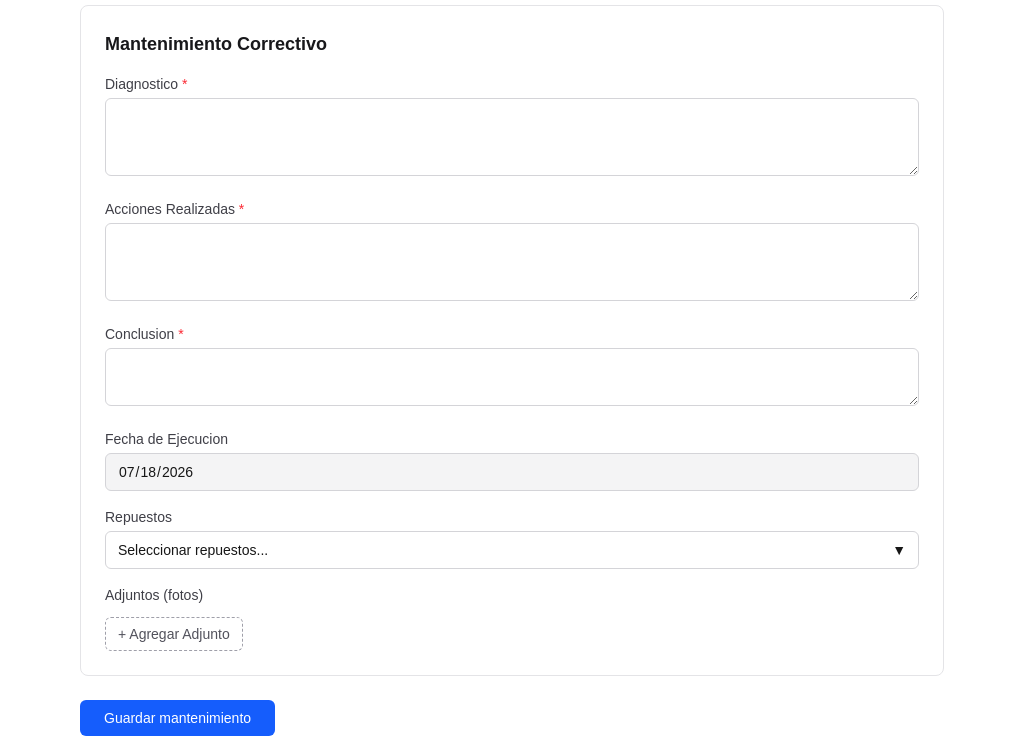
Test case: IncidenciaDetailPage › lets a técnico toggle repuestos, add/update/remove adjuntos and closes on outside click
This screenshot has width=1024, height=739.
(page scrolled)
Expected: the button "Guardar mantenimiento" is shown, [80,700,275,736]
Click the button "Seleccionar repuestos... ▼" at (193, 550), box [105,531,919,569]
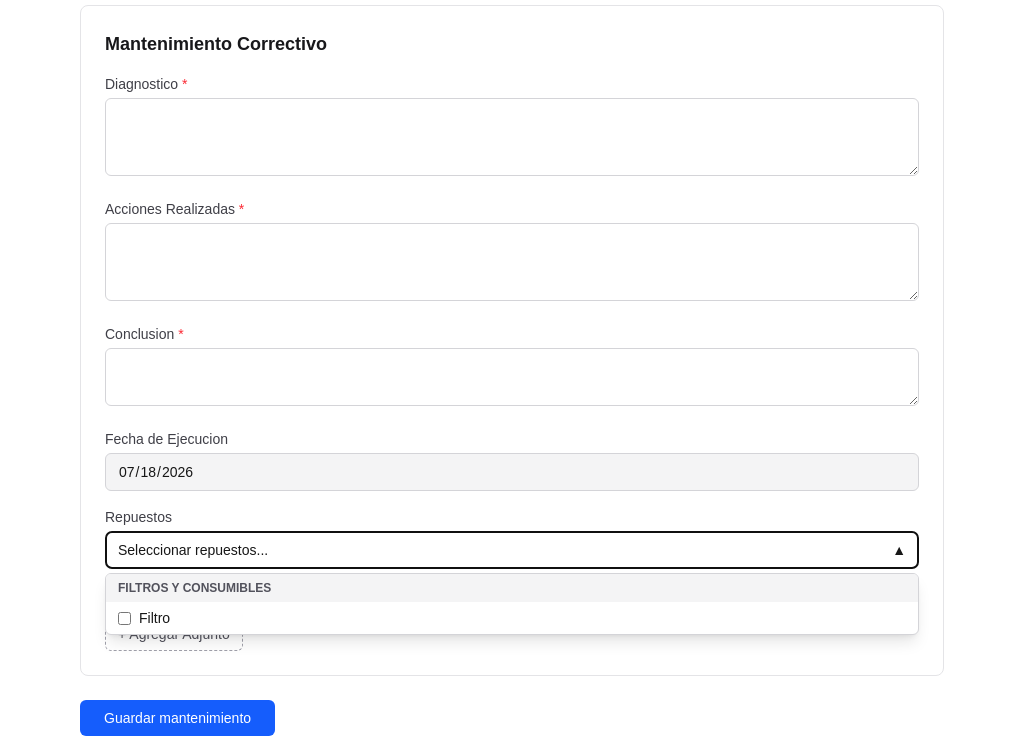
Click the checkbox labelled "Filtro" at (124, 618), box [118,612,131,624]
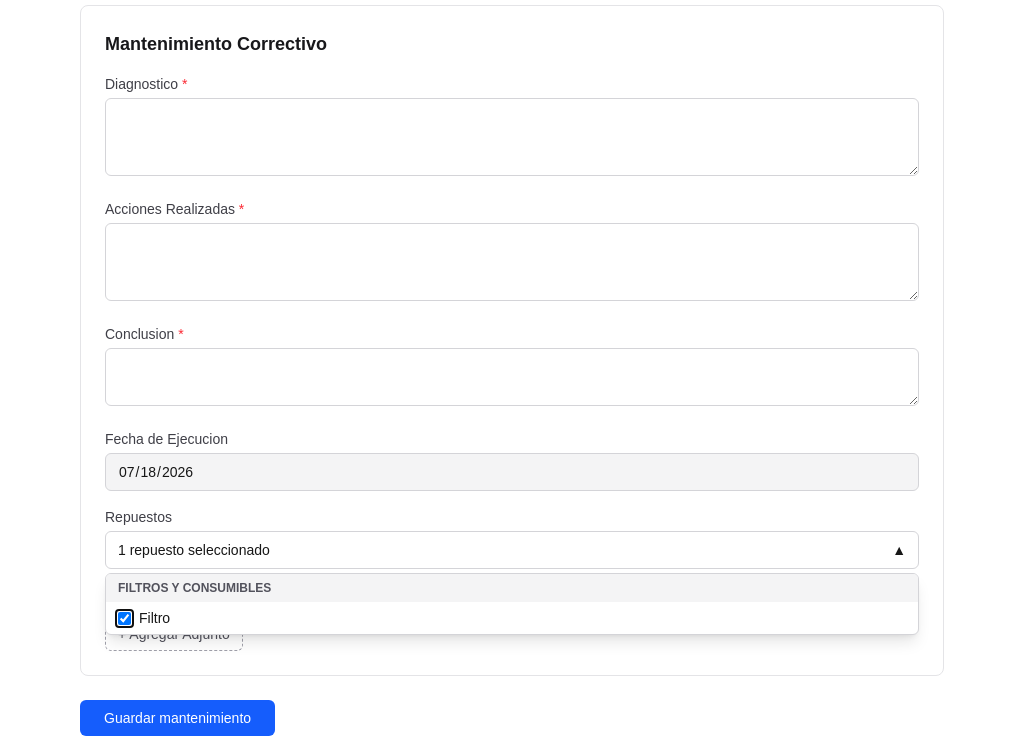
Expected: the button "1 repuesto seleccionado ▲" is shown, [105,531,919,569]
Note: Untoggle to hit the "already selected" branch of toggleRepuesto.
Click the checkbox labelled "Filtro" at (124, 618), box [118,612,131,624]
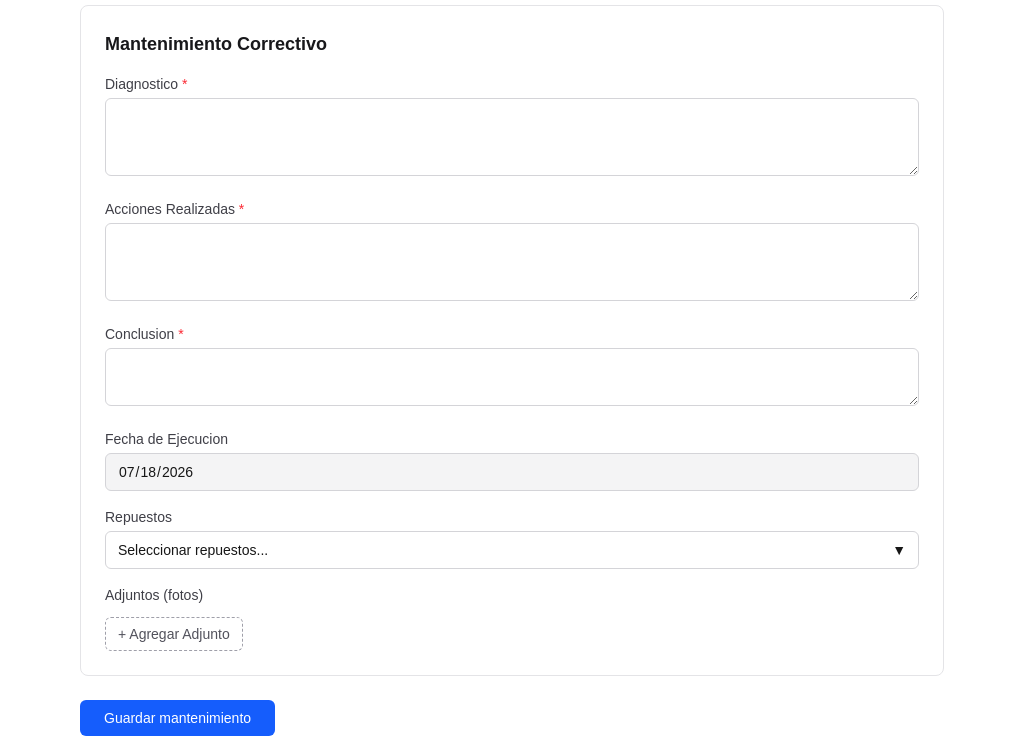
Note: Add an adjunto, edit both fields, then remove it.
Click the button "+ Agregar Adjunto" at (174, 634), box [105,617,243,651]
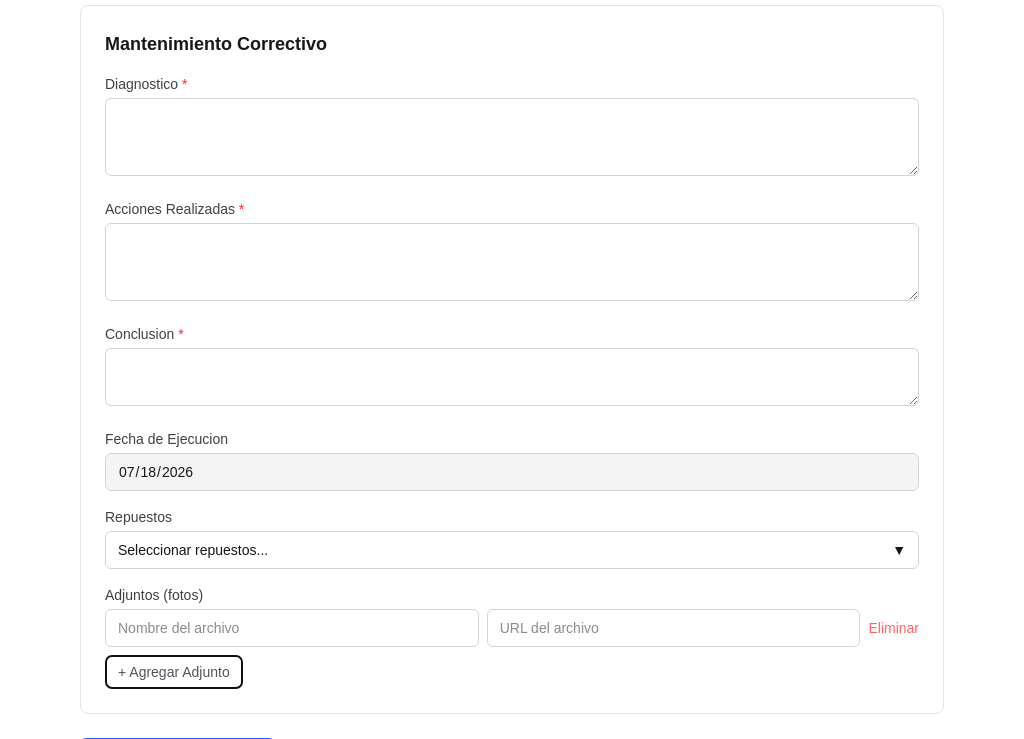
Type "foto.jpg" into the field with placeholder "Nombre del archivo" at (292, 628), box [105,609,479,647]
Type "https://x/foto.jpg" into the field with placeholder "URL del archivo" at (674, 628), box [487,609,860,647]
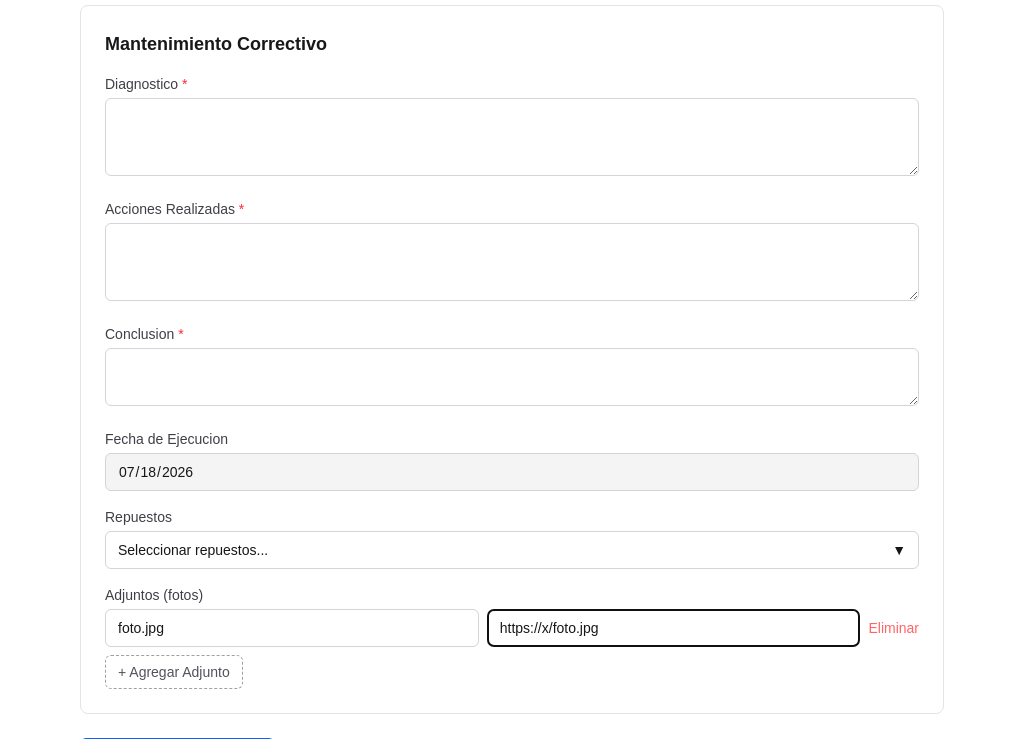
Click the button "Eliminar" at (894, 628), box [868,618,919,638]
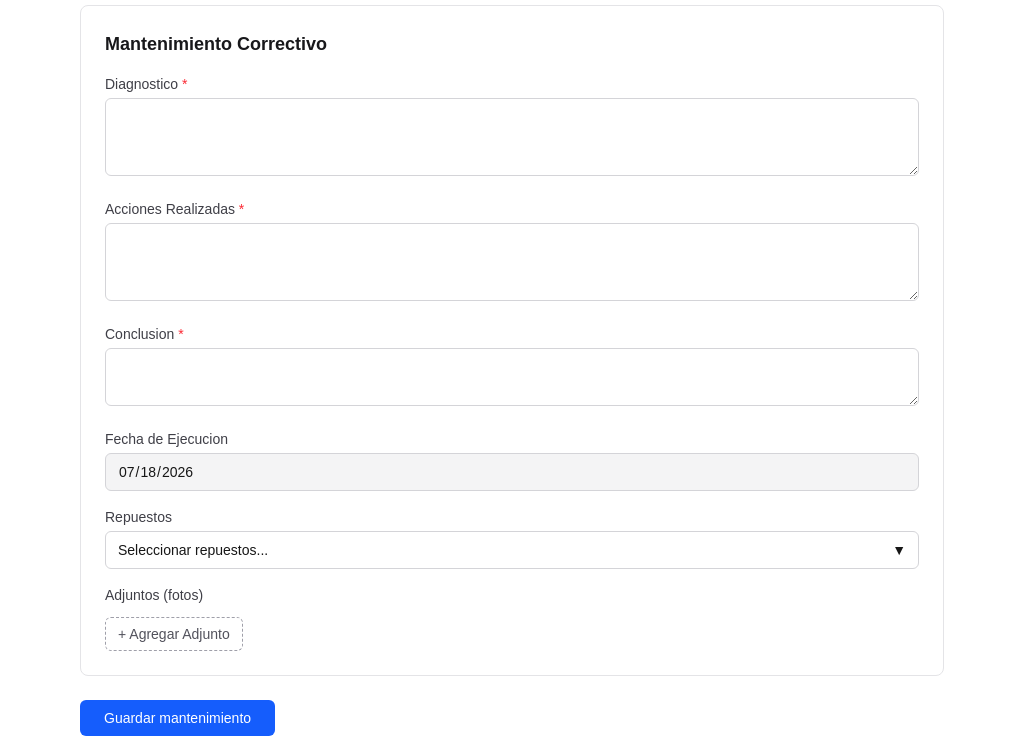
Expected: no fields are shown
